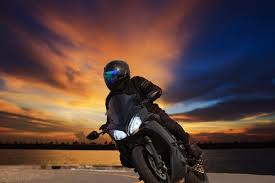motorcycle: (86, 83, 205, 183)
